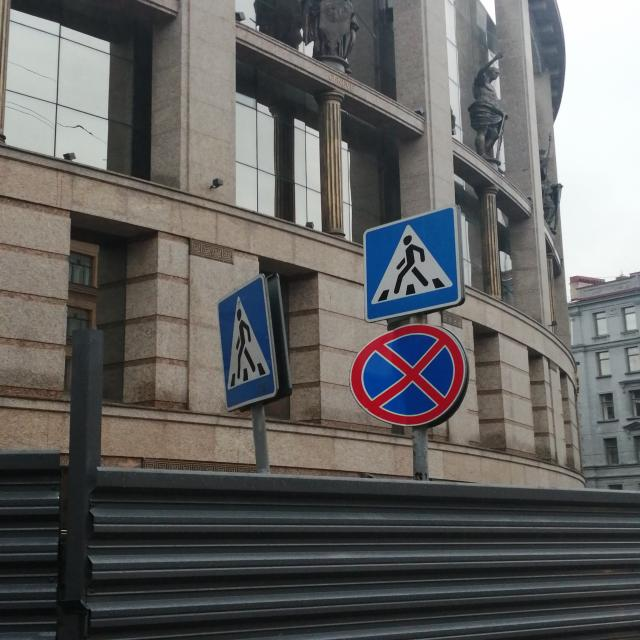road sign: (363, 205, 462, 323), (222, 272, 279, 412), (251, 403, 272, 473), (413, 428, 430, 482)
